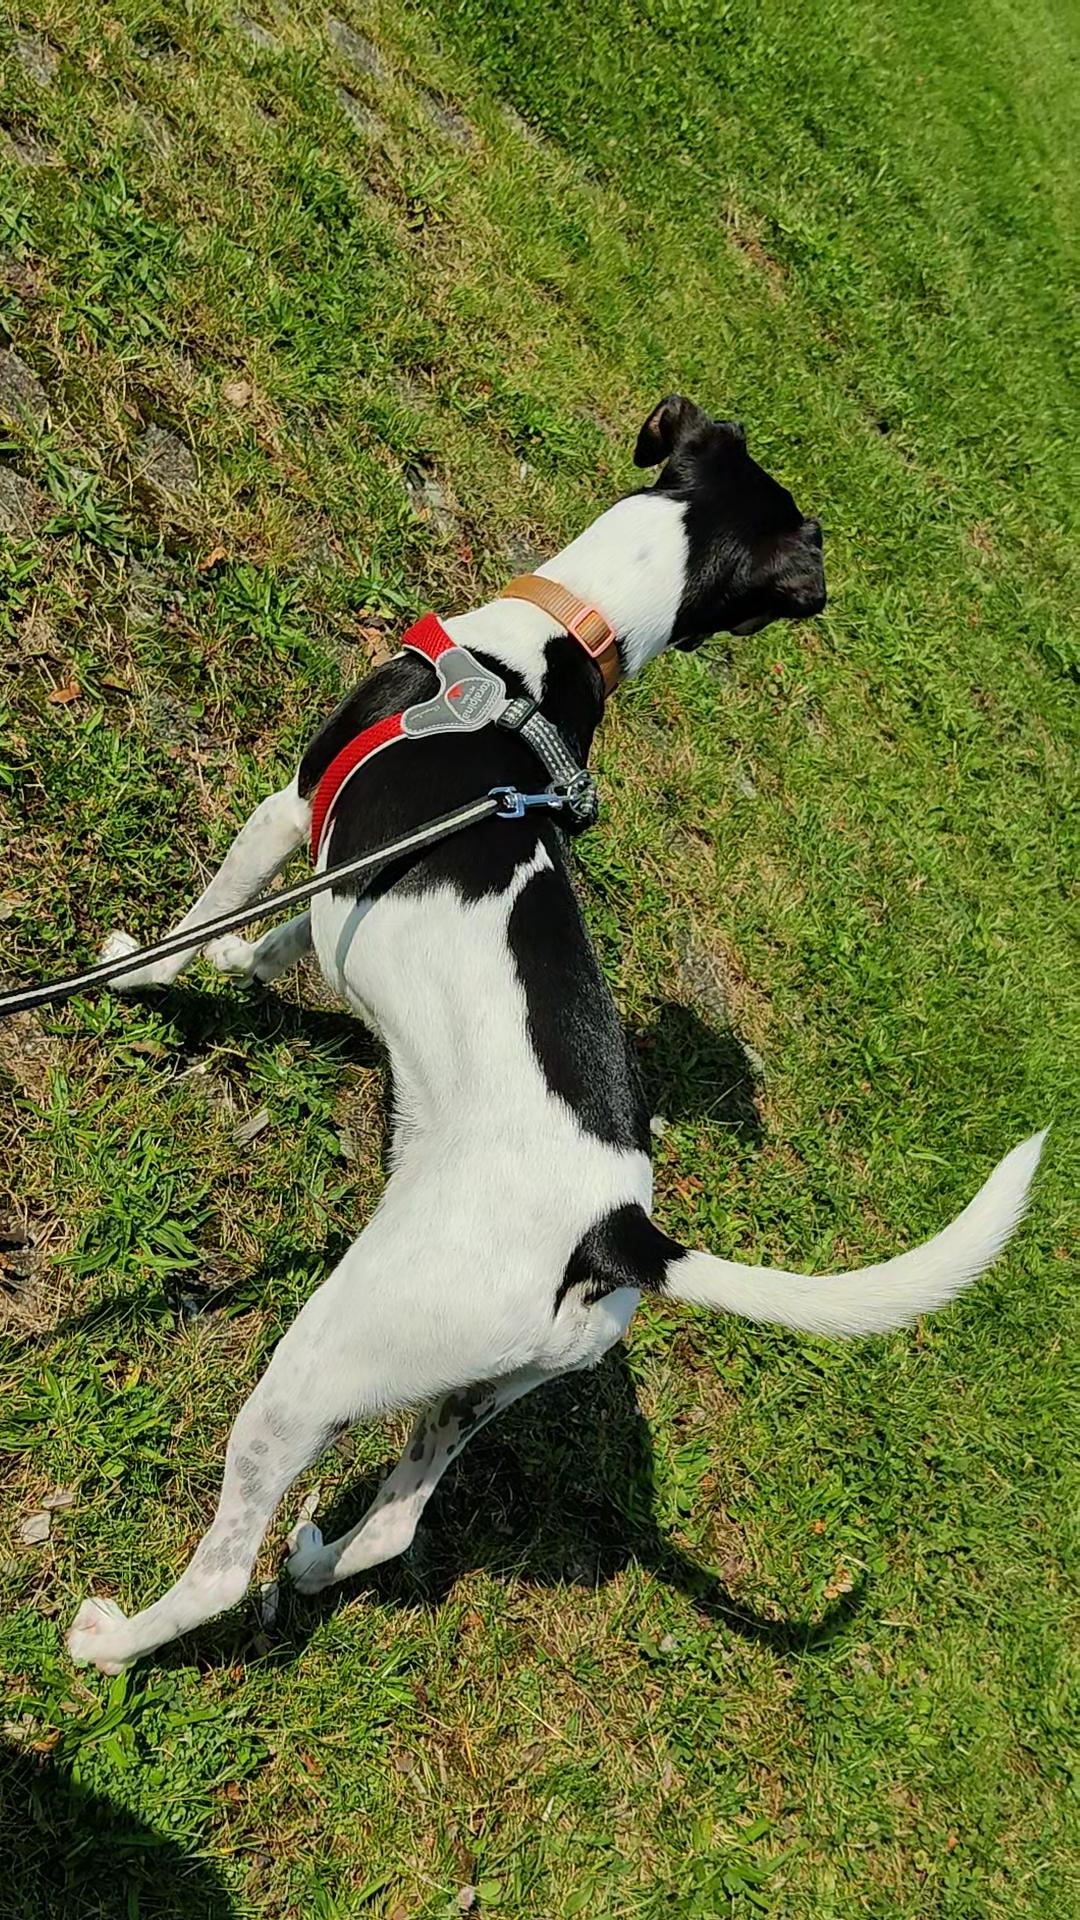Dog: (51, 372, 1051, 1685)
